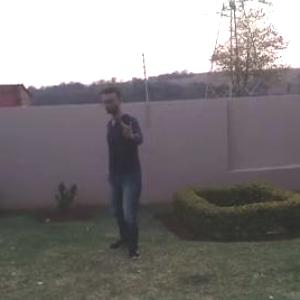takeoff-hand: (113, 110, 143, 138)
